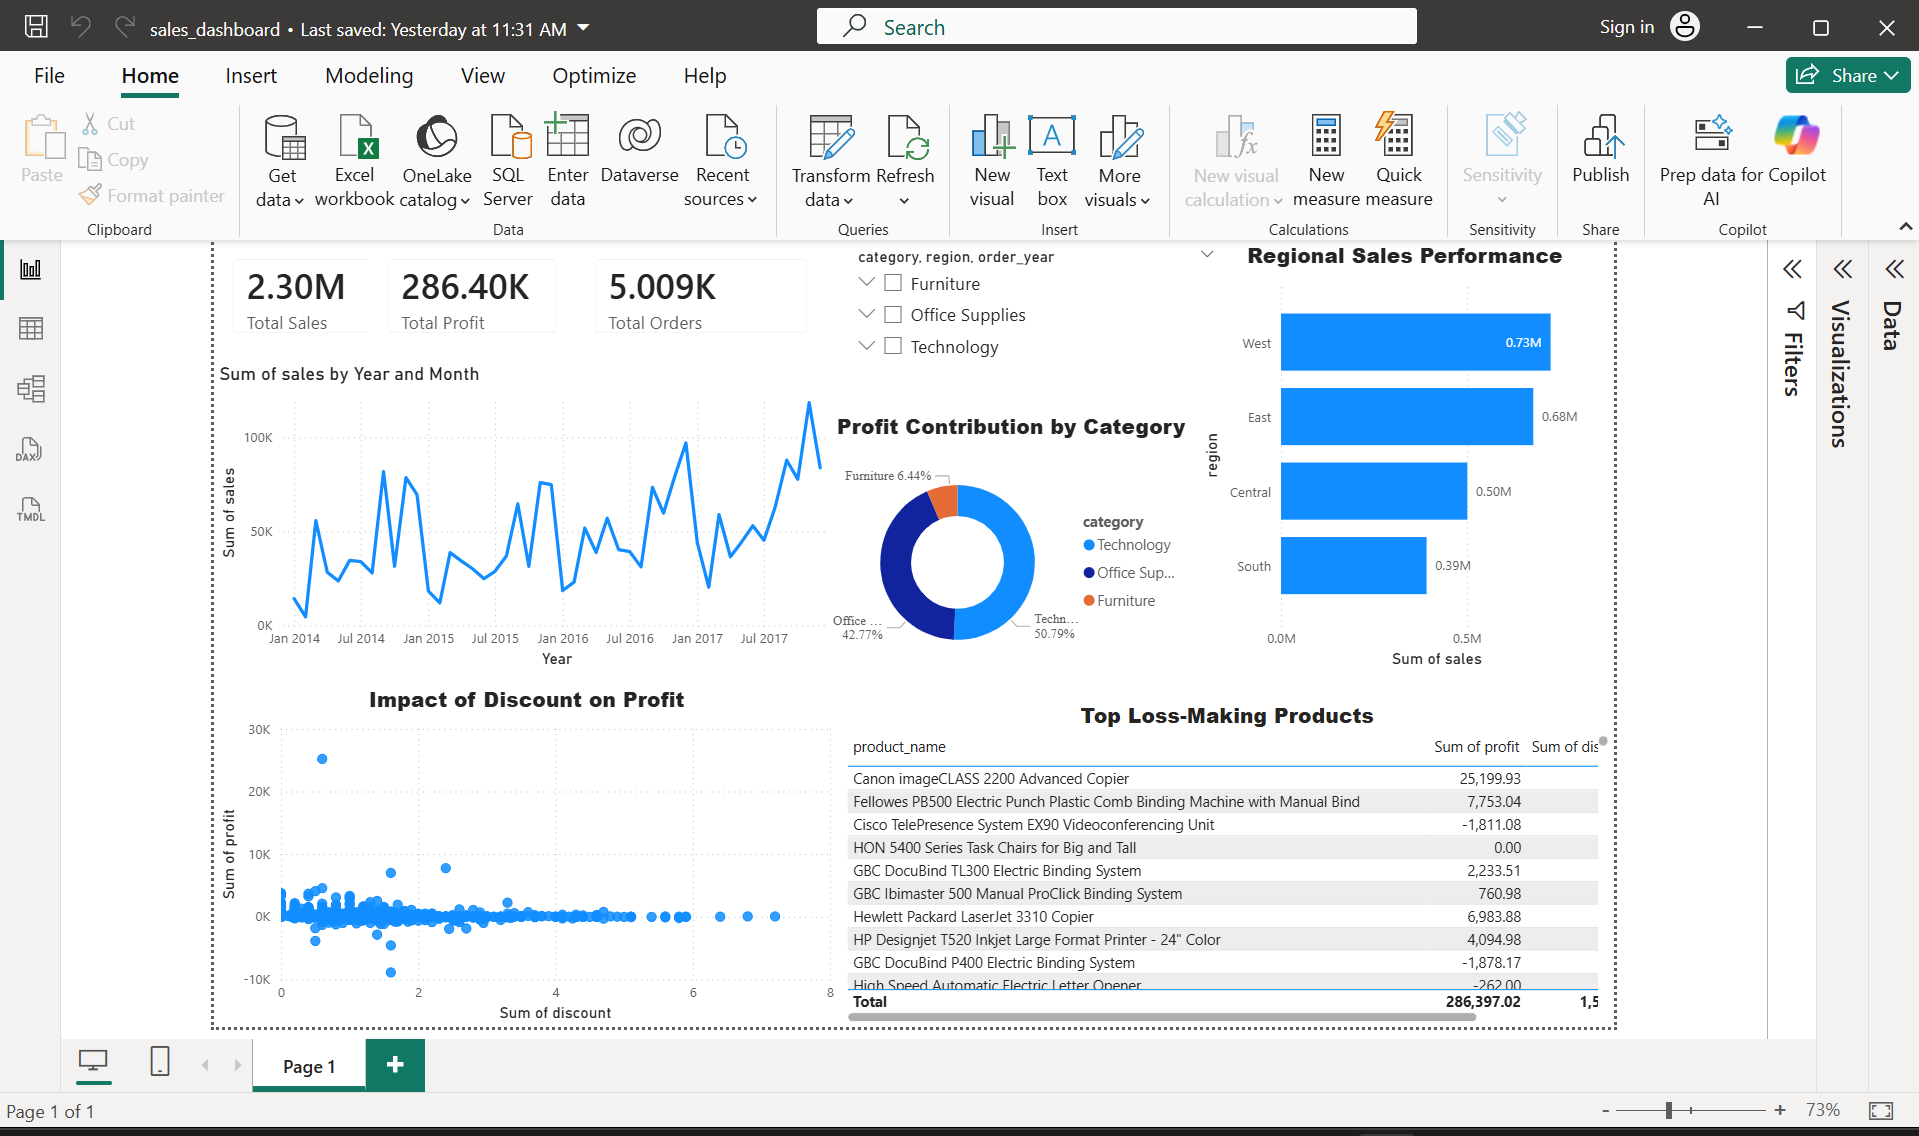

This screenshot's page, from the dashboard's own definition file:
{"tool":"powerbi","page":{"name":"Page 1","canvas":[1280,720],"ordinal":0},"visuals":[{"type":"cardVisual","fields":{"Data":["Sum(cleaned_data.sales)"]},"box":[0,0,411.7,90],"z":0},{"type":"cardVisual","fields":{"Data":["Sum(cleaned_data.profit)"]},"box":[411.5,0,448.7,89.7],"z":1000},{"type":"cardVisual","title":"Total Orders","fields":{"Data":["Count(cleaned_data.order_id)"]},"box":[860.3,0,419.2,89.7],"z":2000},{"type":"lineChart","fields":{"Y":["Sum(cleaned_data.sales)"],"Category":["cleaned_data.order_date.Variation.Date Hierarchy.Year","cleaned_data.order_date.Variation.Date Hierarchy.Month"]},"box":[603.8,438.5,571.8,282.1],"z":3000},{"type":"clusteredBarChart","title":"Regional Sales Performance","fields":{"Category":["cleaned_data.region"],"Y":["Sum(cleaned_data.sales)"]},"box":[716.7,90,563.3,278.3],"z":4000},{"type":"donutChart","title":"Profit Contribution by Category","fields":{"Category":["cleaned_data.category"],"Y":["Sum(cleaned_data.profit)"]},"box":[233.3,90,483.3,266.7],"z":5000},{"type":"slicer","fields":{"Values":["cleaned_data.category","cleaned_data.region","cleaned_data.order_year"]},"box":[0,153.3,250,140],"z":6000},{"type":"scatterChart","title":"Impact of Discount on Profit","fields":{"X":["Sum(cleaned_data.discount)"],"Y":["Sum(cleaned_data.profit)"],"Category":["cleaned_data.product_name"],"Series":["cleaned_data.category"],"Size":["Avg(cleaned_data.sales)"]},"box":[0,371.7,573.3,336.7],"z":7000},{"type":"tableEx","title":"Top Loss-Making Products","fields":{"Values":["cleaned_data.product_name","Sum(cleaned_data.profit)","Sum(cleaned_data.discount)","Sum(cleaned_data.sales)"]},"box":[573.3,371.7,706.7,348.3],"z":8000},{"type":"actionButton","box":[0,0,100,40],"z":8001}]}

Visuals, with their boxes on the page's 1280x720 design canvas (x1, y1, x2, y2). These are canvas units, not pixel positions in the 1919x1136 screenshot, which may show the page scaled, cropped or inside an application window:
cardVisual - Sum(cleaned_data.sales): box(0, 0, 412, 90)
cardVisual - Sum(cleaned_data.profit): box(412, 0, 860, 90)
"Total Orders" cardVisual: box(860, 0, 1280, 90)
lineChart - Sum(cleaned_data.sales) x cleaned_data.order_date.Variation.Date Hierarchy.Year: box(604, 438, 1176, 721)
"Regional Sales Performance" clusteredBarChart: box(717, 90, 1280, 368)
"Profit Contribution by Category" donutChart: box(233, 90, 717, 357)
slicer - cleaned_data.category x cleaned_data.region: box(0, 153, 250, 293)
"Impact of Discount on Profit" scatterChart: box(0, 372, 573, 708)
"Top Loss-Making Products" tableEx: box(573, 372, 1280, 720)
actionButton: box(0, 0, 100, 40)
